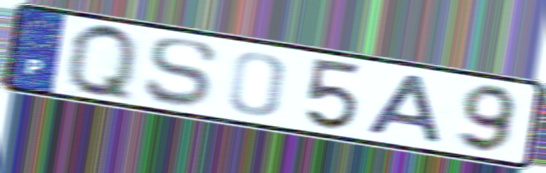0: (225, 50, 289, 118)
5: (300, 55, 368, 133)
9: (453, 83, 520, 156)
A: (363, 72, 446, 146)
Q: (66, 20, 139, 107)
S: (141, 36, 220, 108)
